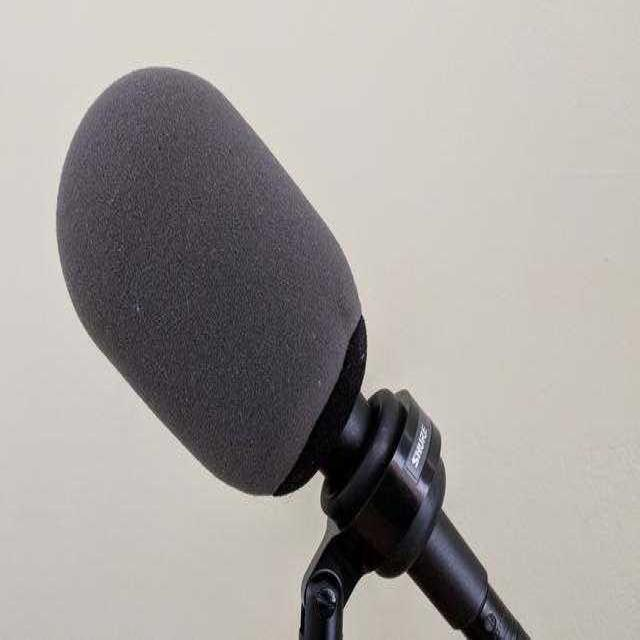microphone: (54, 61, 489, 609)
